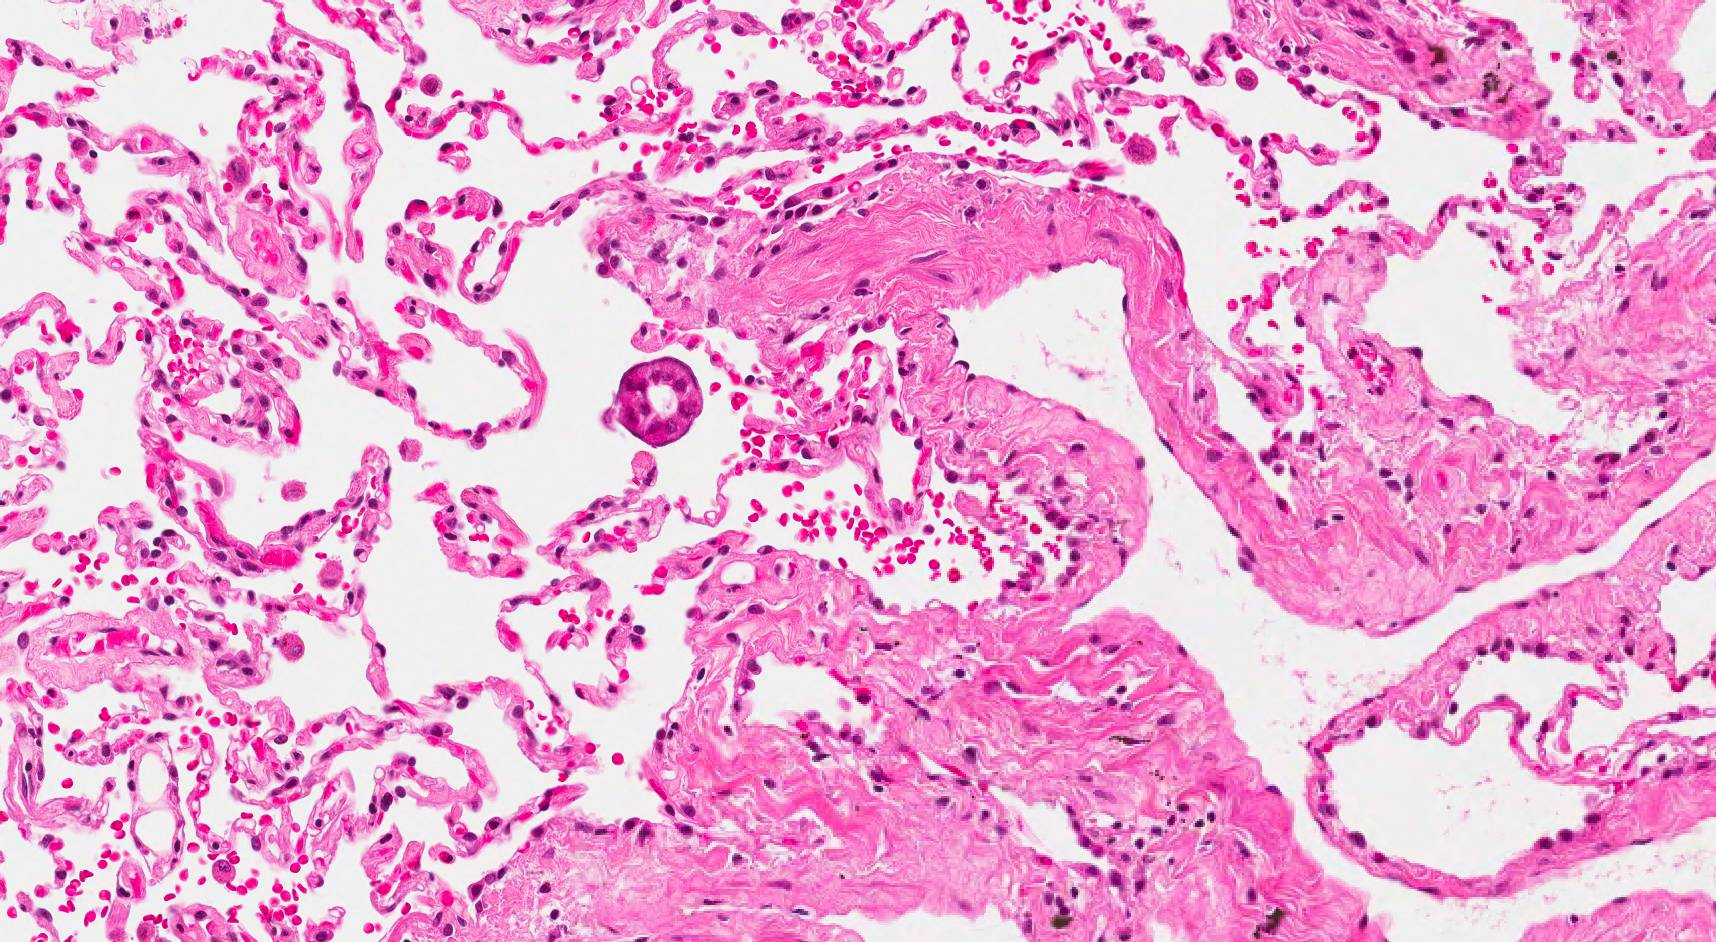stas: (614, 355, 706, 449)
